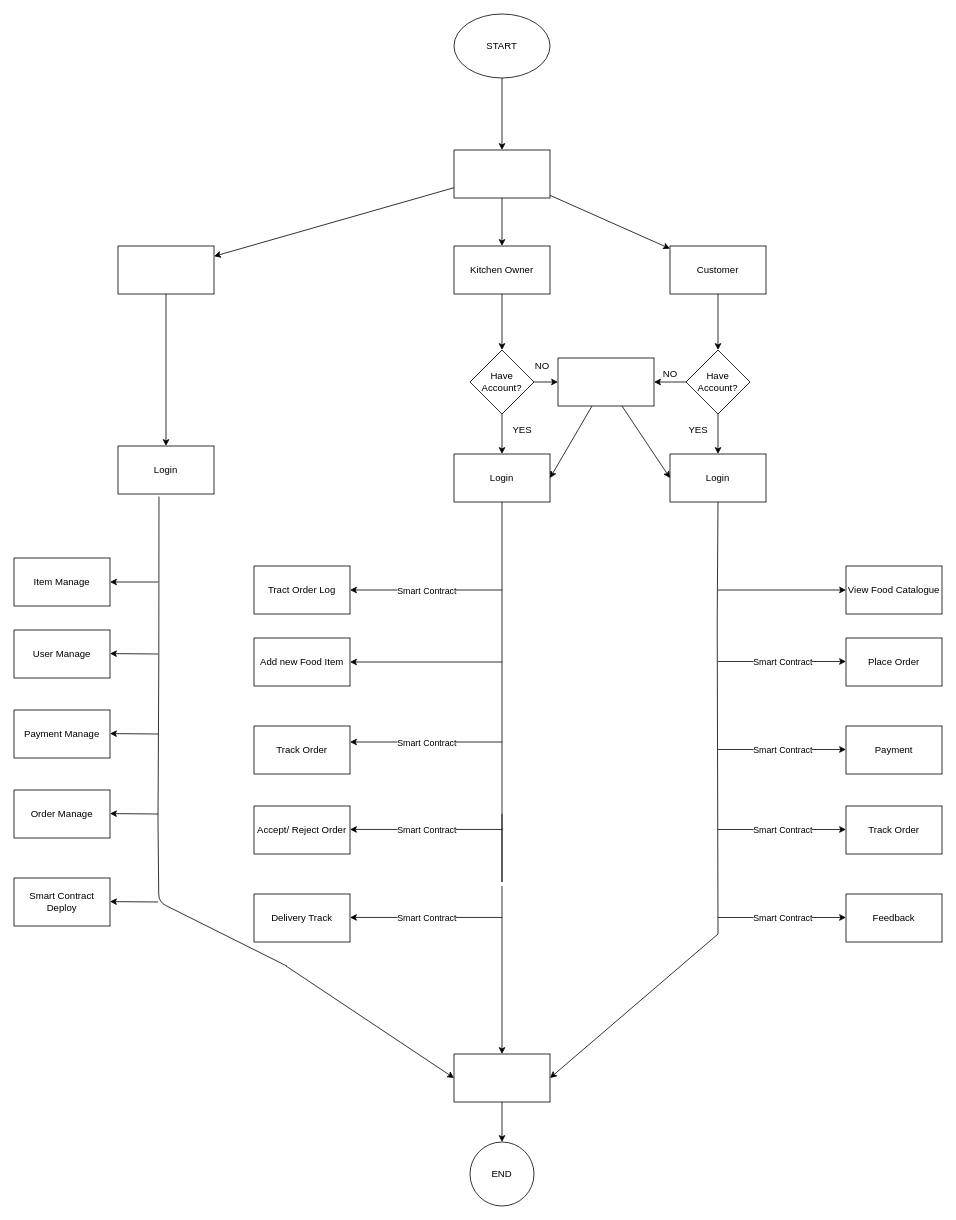
The diagram is 956 pixels wide and 1220 high, and some of its shapes have lost their labels. The shapes that lost their labels are listed below. From the top down, each one's centre as x and y in pixels, then its label:
At [501,173]: "Cloud Kitchen app".
At [165,269]: "ADMIN".
At [605,381]: "Register".
At [501,1077]: "Logout".
